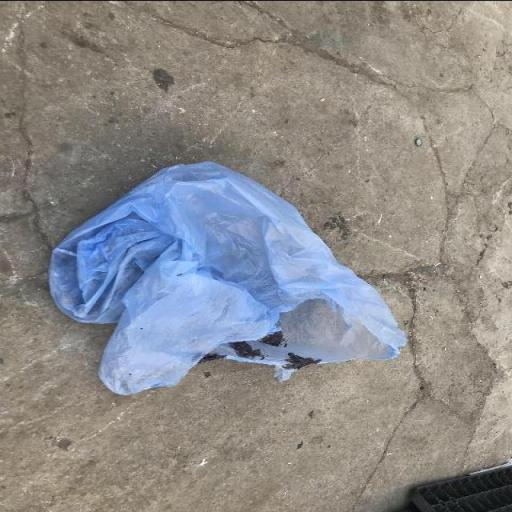plastic-bag: (44, 157, 409, 400)
